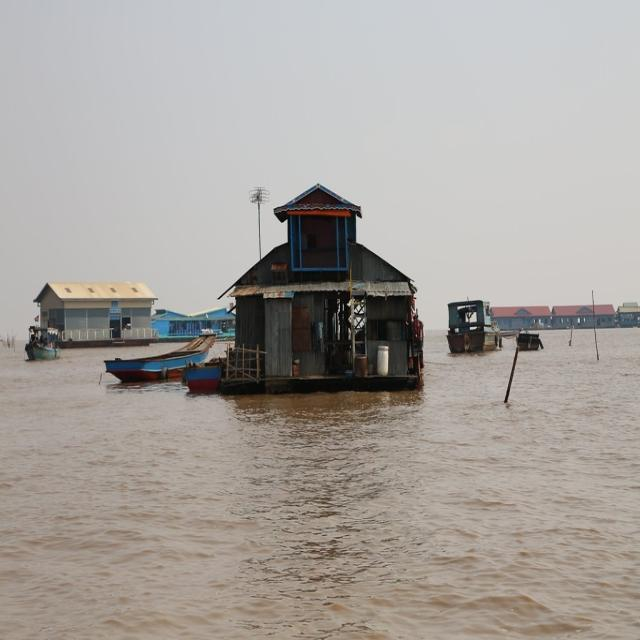Raft: (211, 178, 435, 396)
boat: (102, 324, 216, 385), (445, 288, 496, 355), (26, 323, 61, 376), (505, 324, 546, 352)
